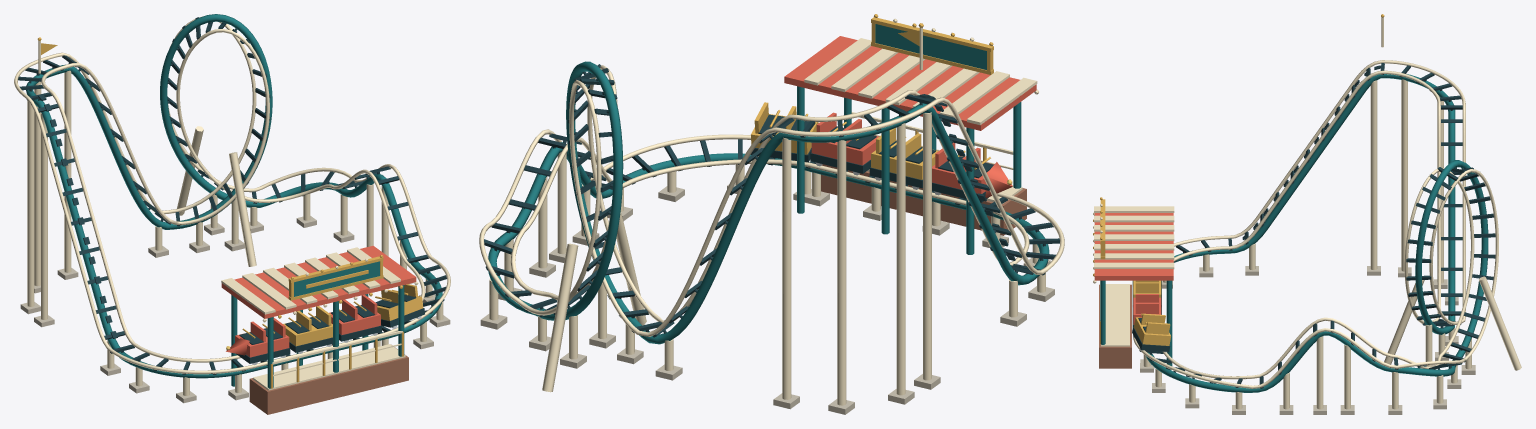
File: ride_looping.glb
3 renders of one model, left to right at view 1: azimuth 30°, elevation 25°; view 2: azimuth 150°, elevation 25°; view 3: azimuth 270°, elevation 25°, orthographic. The views are drawn at different scales.
Visible parts, largest first — view 1: ride_looping; view 2: ride_looping; view 3: ride_looping.
Boxes of the visible parts, box(x1,y1,x2,y2) form: ride_looping: box(14, 14, 450, 414); ride_looping: box(479, 14, 1064, 414); ride_looping: box(1093, 14, 1521, 414).
Bounding box in the file's own units: 12.93 × 10.35 × 15.49.
